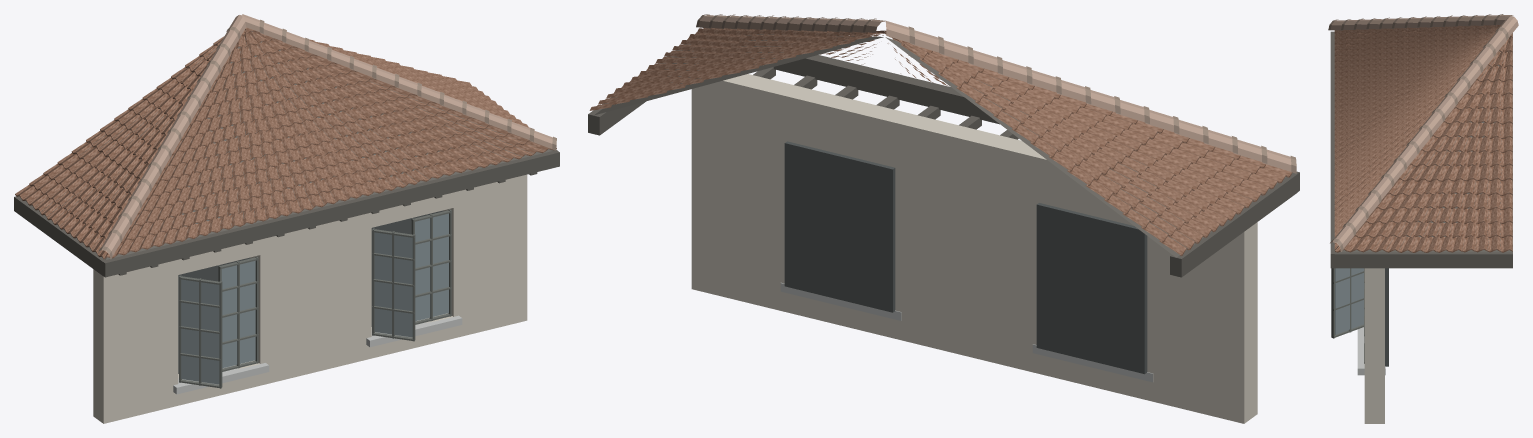
File: changle-327-329-hipped-window-roof-far.glb
3 views of the same model, side by side, from view 1: azimuth 30°, elevation 25°; view 2: azimuth 150°, elevation 25°; view 3: azimuth 270°, elevation 25° (orthographic). The views are drawn at different scales.
Visible parts, largest first — view 1: 长乐路327至329号住宅双窗上方的斜脊瓦顶; view 2: 长乐路327至329号住宅双窗上方的斜脊瓦顶; view 3: 长乐路327至329号住宅双窗上方的斜脊瓦顶.
Boxes of the visible parts, box(x1,y1,x2,y2) form: 长乐路327至329号住宅双窗上方的斜脊瓦顶: box(14, 14, 559, 423); 长乐路327至329号住宅双窗上方的斜脊瓦顶: box(588, 14, 1299, 423); 长乐路327至329号住宅双窗上方的斜脊瓦顶: box(1328, 14, 1518, 423).
Size of the model in its own units: 4.56 by 2.87 by 1.63.
Materials: 9 (1 with a texture image).
